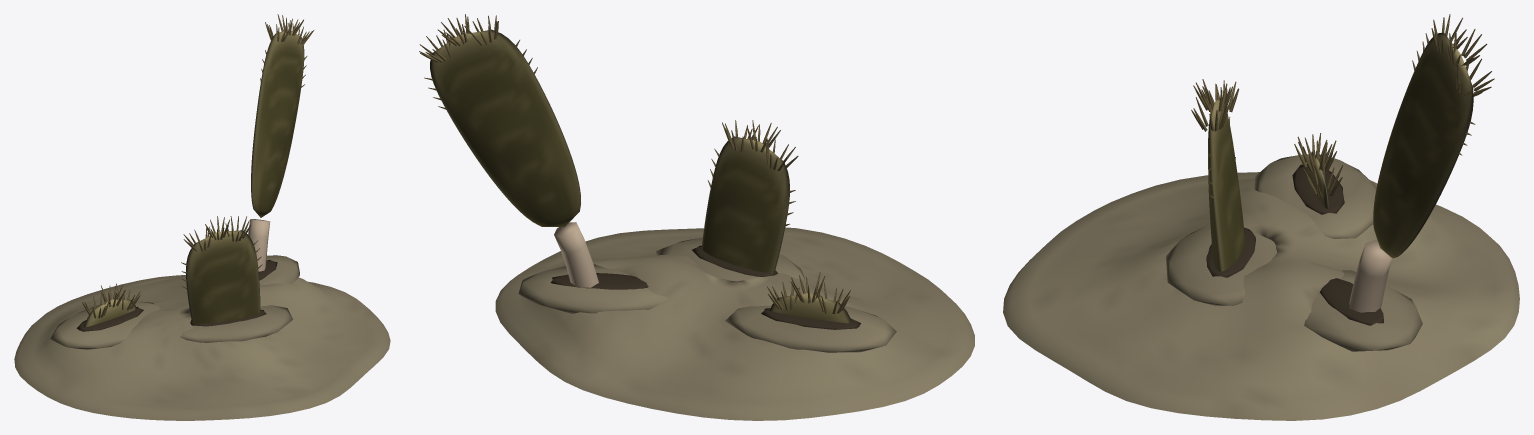
The model's file is LingulaAnatina.fbx.
The picture shows the model from 3 angles, left to right: view 1: azimuth 30°, elevation 25°; view 2: azimuth 150°, elevation 25°; view 3: azimuth 270°, elevation 25°; orthographic projection. The views are drawn at different scales.
Visible parts, largest first — view 1: LingulaAnatina; view 2: LingulaAnatina; view 3: LingulaAnatina.
Boxes of the visible parts, x1,y1,x2,y2 form: LingulaAnatina: (14, 14, 390, 420); LingulaAnatina: (419, 14, 974, 420); LingulaAnatina: (1003, 14, 1519, 420).
Size of the model in its own units: 1.09 by 0.7567 by 0.9417.
